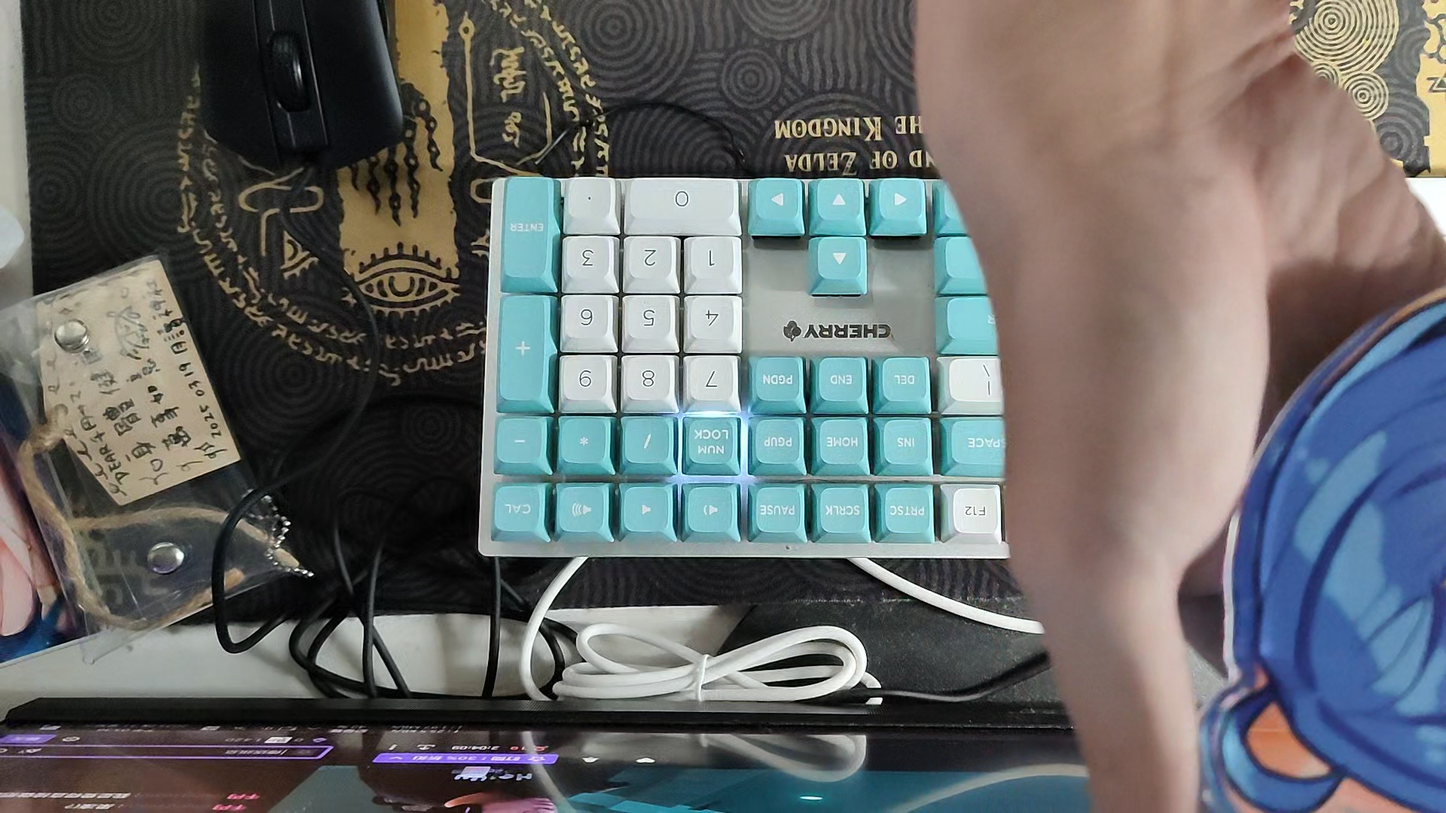Yanami-anna: (1194, 283, 1446, 813)
